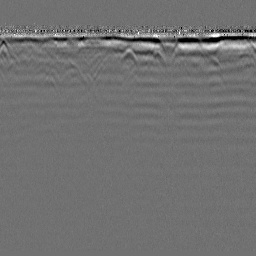cavity: (120, 45, 138, 63)
